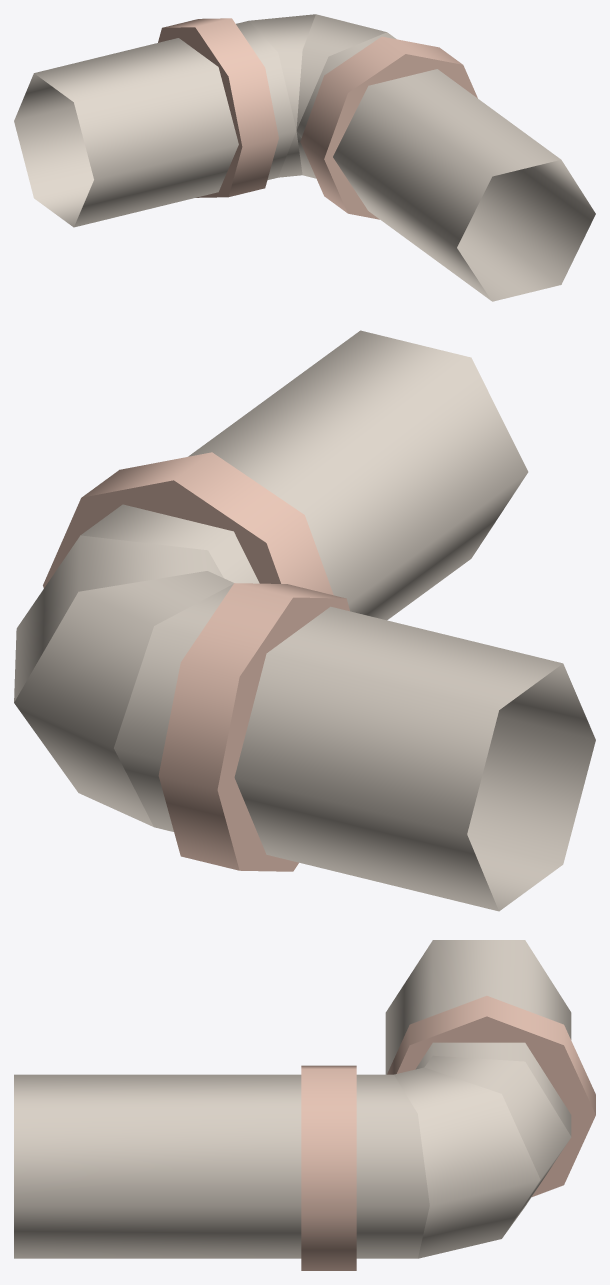
3 renders of one model, top to bottom at view 1: azimuth 30°, elevation 25°; view 2: azimuth 150°, elevation 25°; view 3: azimuth 270°, elevation 25°, orthographic. The views are drawn at different scales.
Parts seen in each view (by area): view 1: Object72; view 2: Object72; view 3: Object72.
Part boxes in pixels (bbox=[...]): Object72: bbox=[14, 14, 595, 301]; Object72: bbox=[14, 330, 595, 911]; Object72: bbox=[14, 940, 595, 1270].
Bounding box in the file's own units: 23241 × 10626 × 28336.
